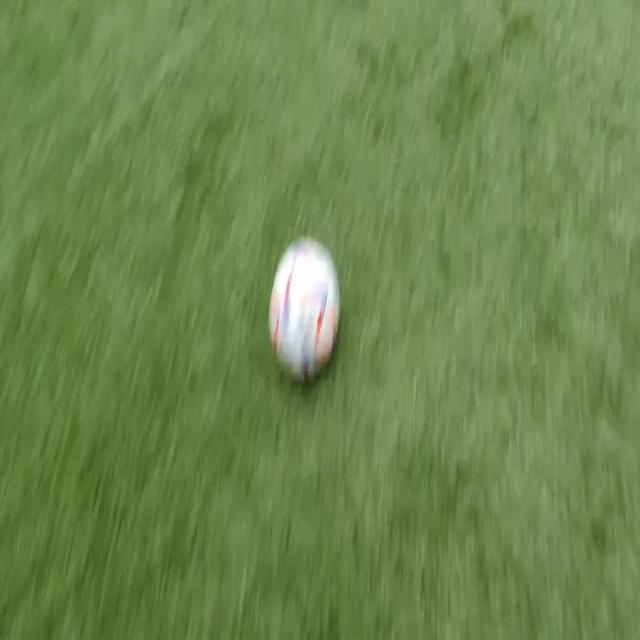ball: (269, 238, 340, 382)
